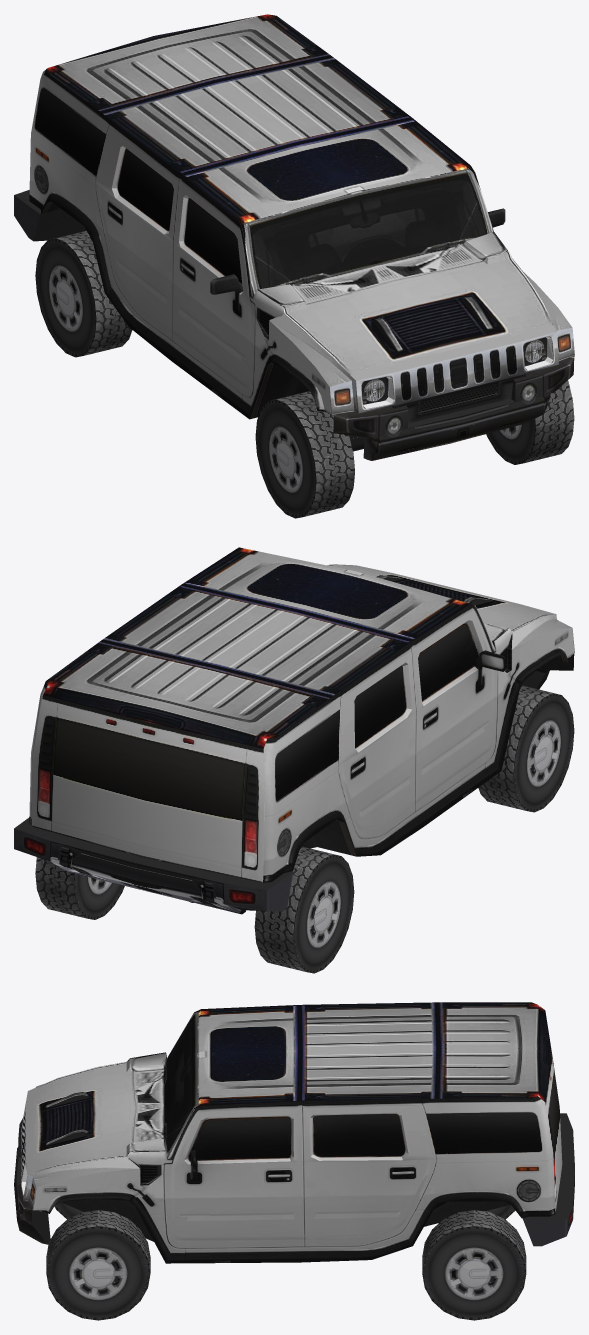
Rendered from gz-suv.glb.
The picture shows the model from 3 angles, top to bottom: view 1: azimuth 30°, elevation 25°; view 2: azimuth 150°, elevation 25°; view 3: azimuth 270°, elevation 25°; orthographic projection. The views are drawn at different scales.
Visible parts, largest first — view 1: object 1, wheel_fr, wheel_rr, wheel_fl; view 2: object 1, wheel_rr, wheel_fr, wheel_rl; view 3: object 1, wheel_rl, wheel_fl.
Boxes of the visible parts, x1,y1,x2,y2 form: object 1: (14,14,574,460); wheel_fr: (255,391,354,518); wheel_rr: (35,230,132,357); wheel_fl: (486,380,574,464); object 1: (14,547,574,914); wheel_rr: (254,846,354,973); wheel_fr: (478,685,574,812); wheel_rl: (35,857,124,919); object 1: (14,1002,574,1263); wheel_rl: (422,1210,526,1320); wheel_fl: (46,1210,150,1320).
Bounding box in the file's own units: 2.6 × 2.16 × 5.02.
Materials: 2 (2 with a texture image).
